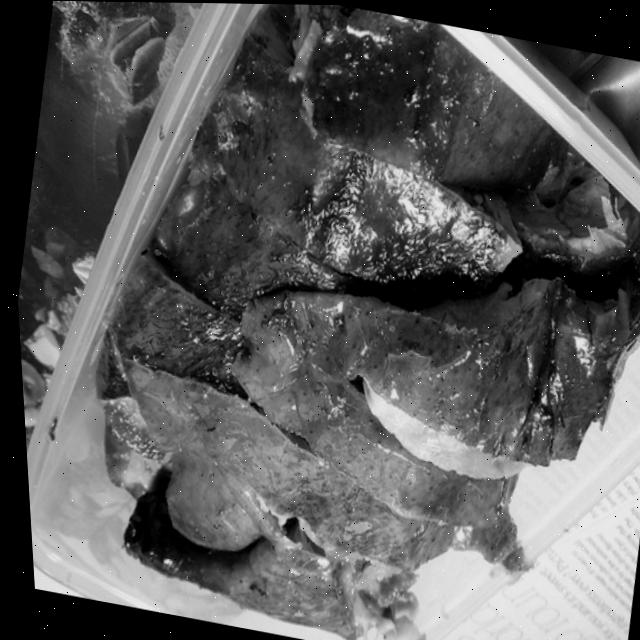烧串烤肉: (10, 0, 640, 640)
